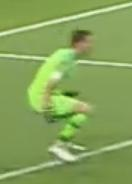goalkeeper: (23, 14, 103, 173)
